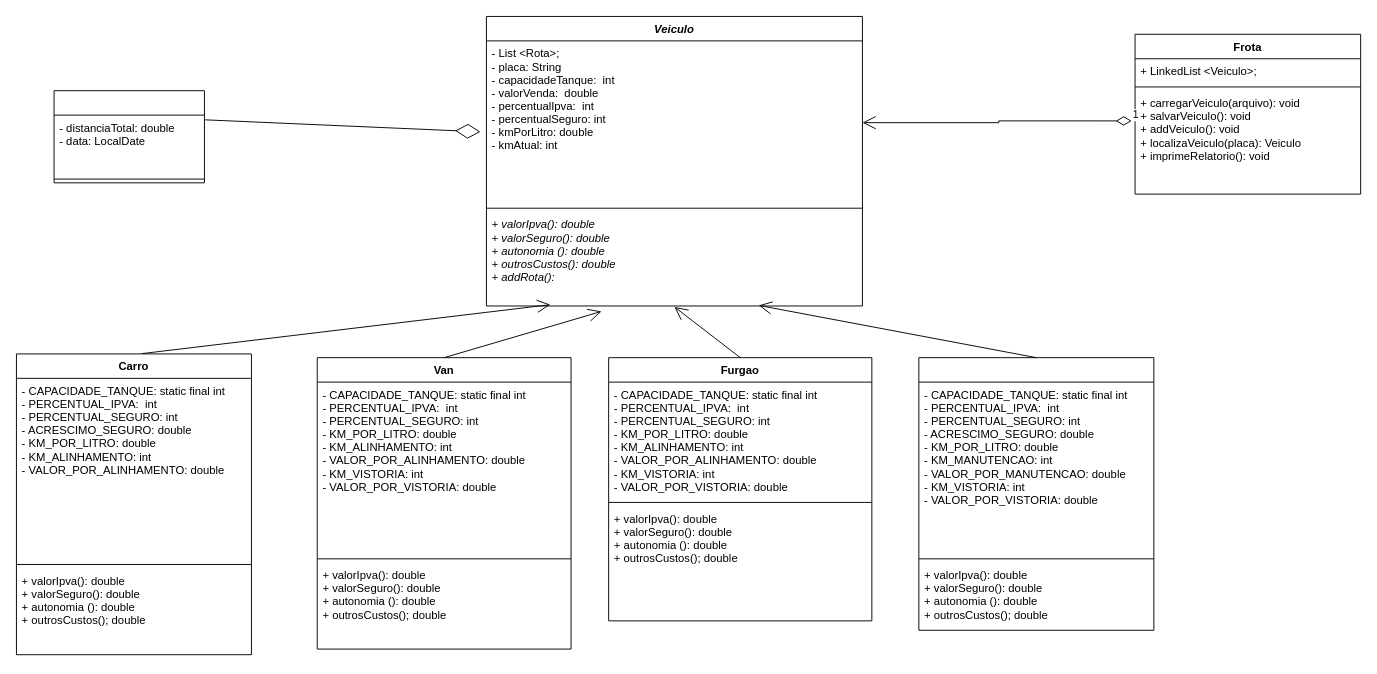
The diagram is 1377 pixels wide and 674 high, and some of its shapes have lost their labels. Each missing label, with the box of its shape:
Caminhao: (918, 357, 1154, 630)
Rota: (53, 90, 204, 183)
